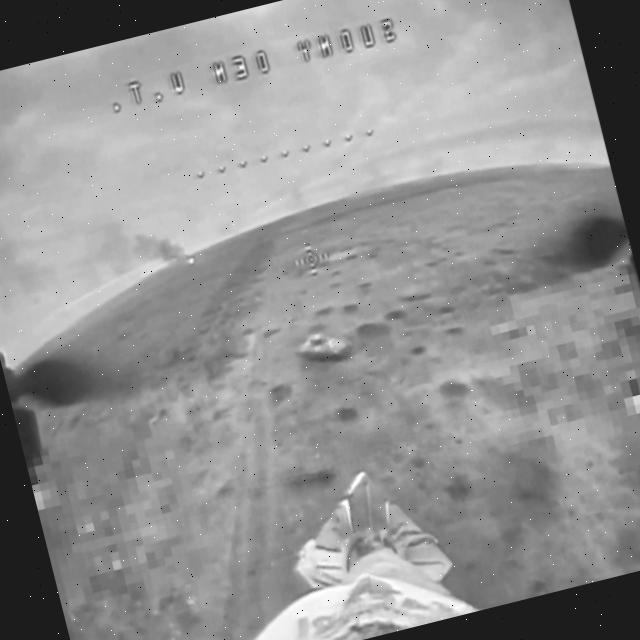APC: (295, 326, 355, 371)
